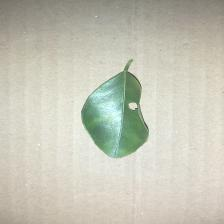healthy: (78, 56, 155, 160)
